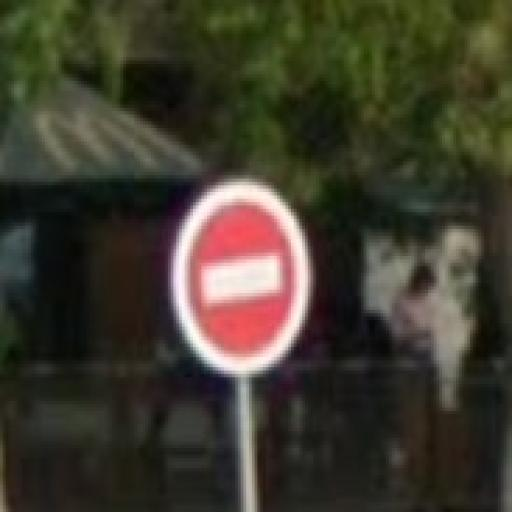traffic_sign: (166, 173, 317, 382)
